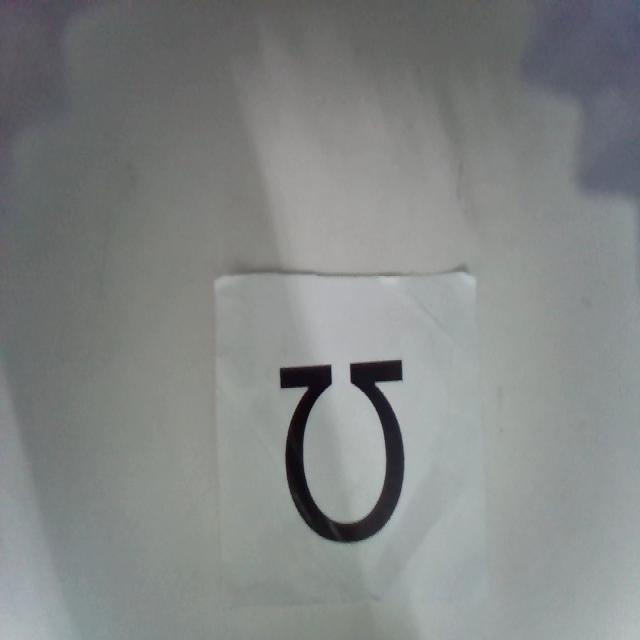OM: (276, 357, 408, 540)
